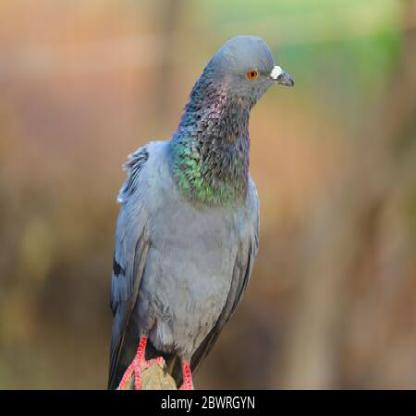Flying Rat: (84, 32, 296, 392)
